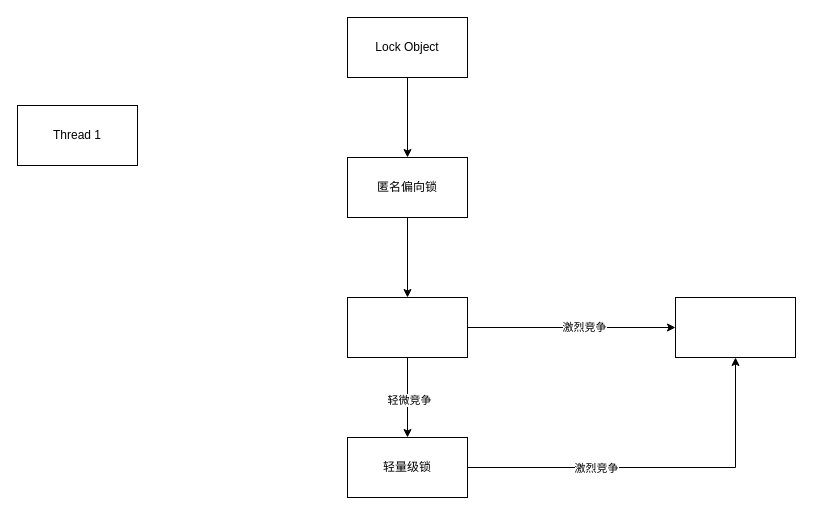
The diagram is 813 pixels wide and 515 high, and some of its shapes have lost their labels. Here are the shapes that lost their labels. From the top down, the box of each, then its label:
(346, 296, 468, 358): 偏向锁
(674, 296, 796, 358): 重量级锁
